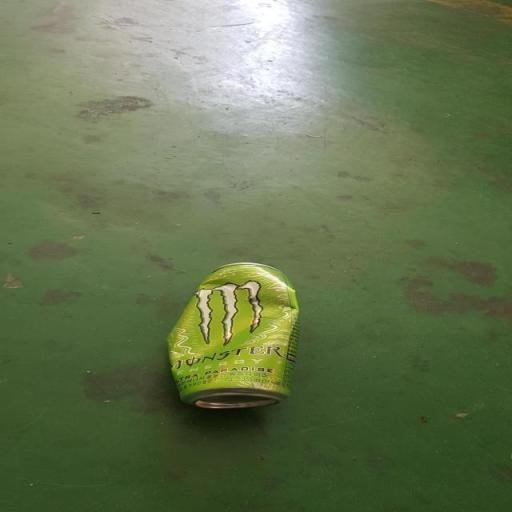metal: (150, 234, 352, 460)
